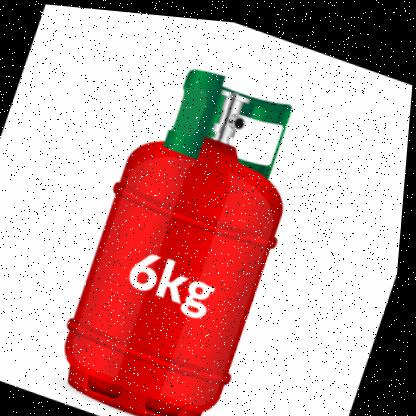gas-tank: (30, 29, 343, 415)
